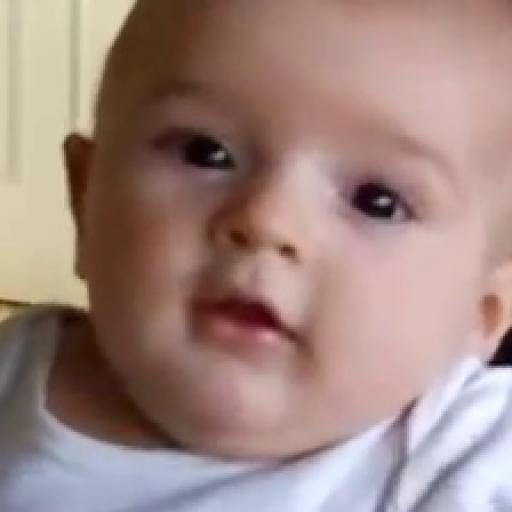Autism: (112, 7, 512, 455)
